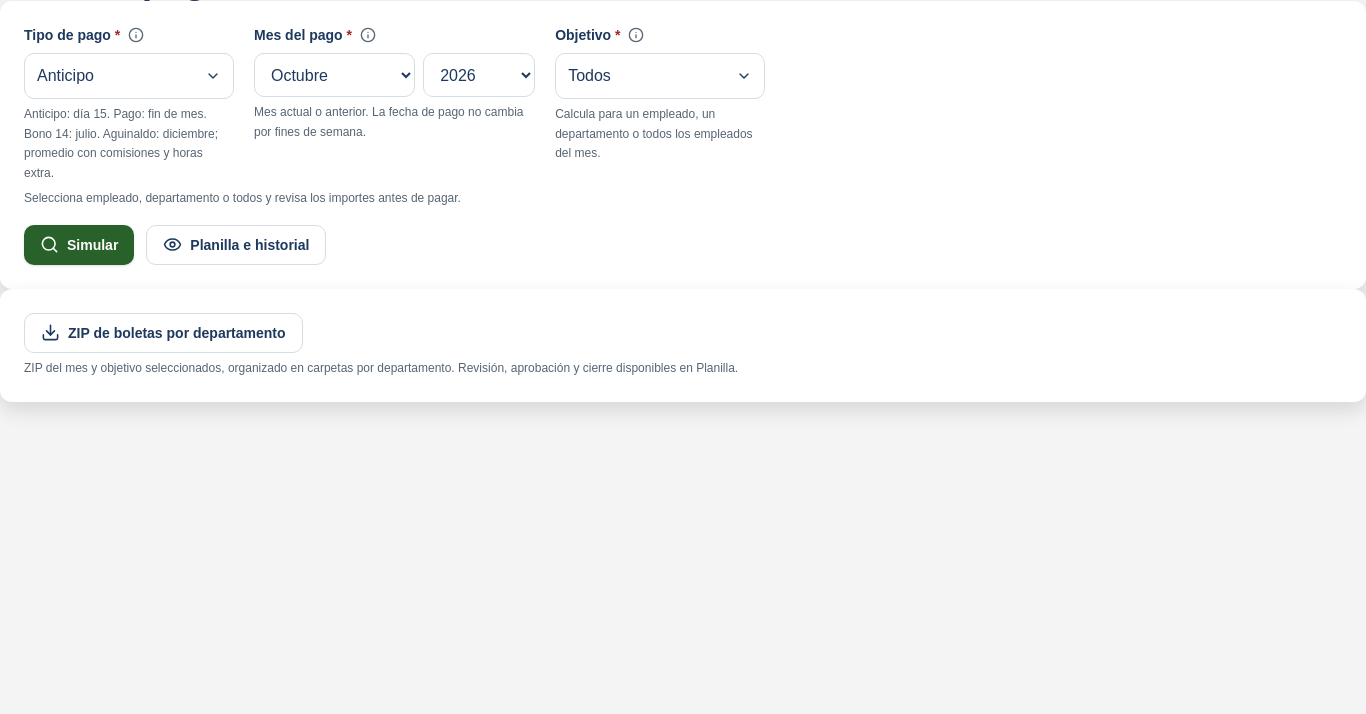
Test case: A11: simulación guiada y confirmación › cambiar mes retira simulación y confirmación
The image size is (1366, 714).
Click the button "Simular" at {"x": 79, "y": 244}, box [24,224,134,264]
(page scrolled)
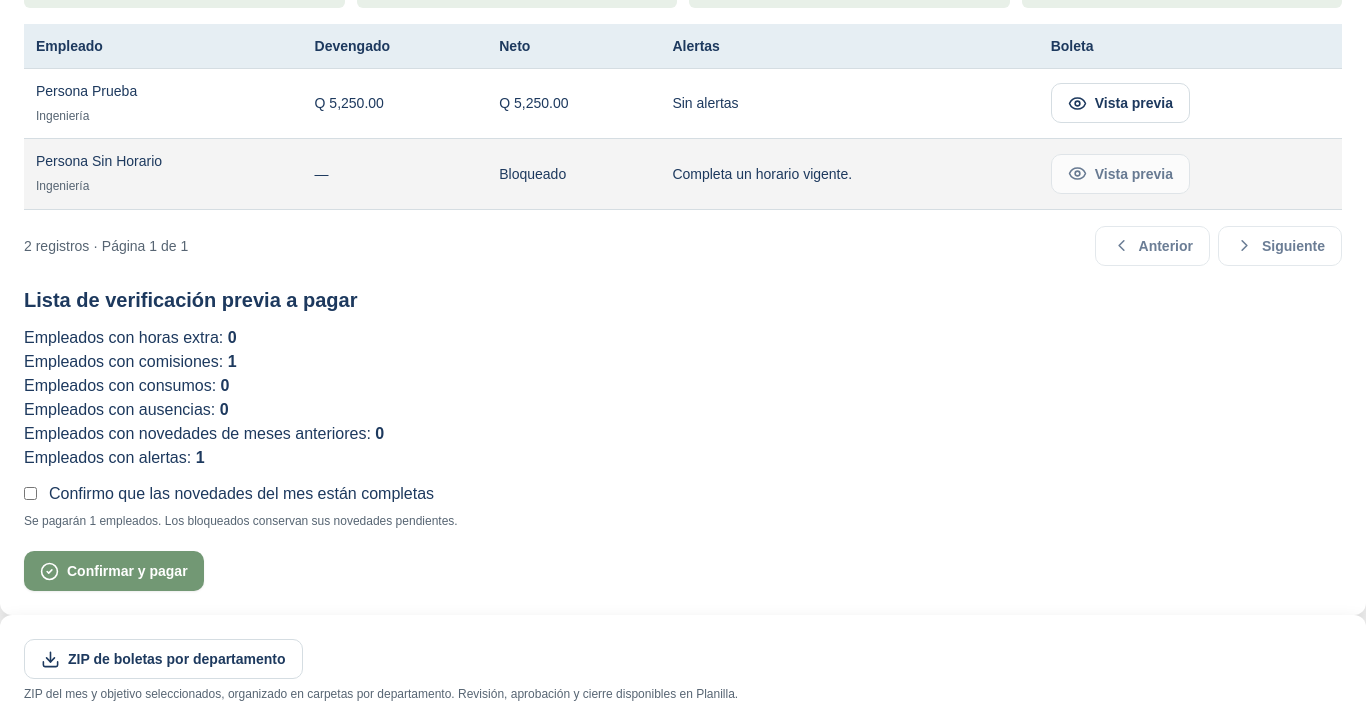
Expected: the text "Persona Prueba" is shown, [36,82,137,98]
Click the checkbox at {"x": 30, "y": 494}, box [24,487,37,500]
(page scrolled)
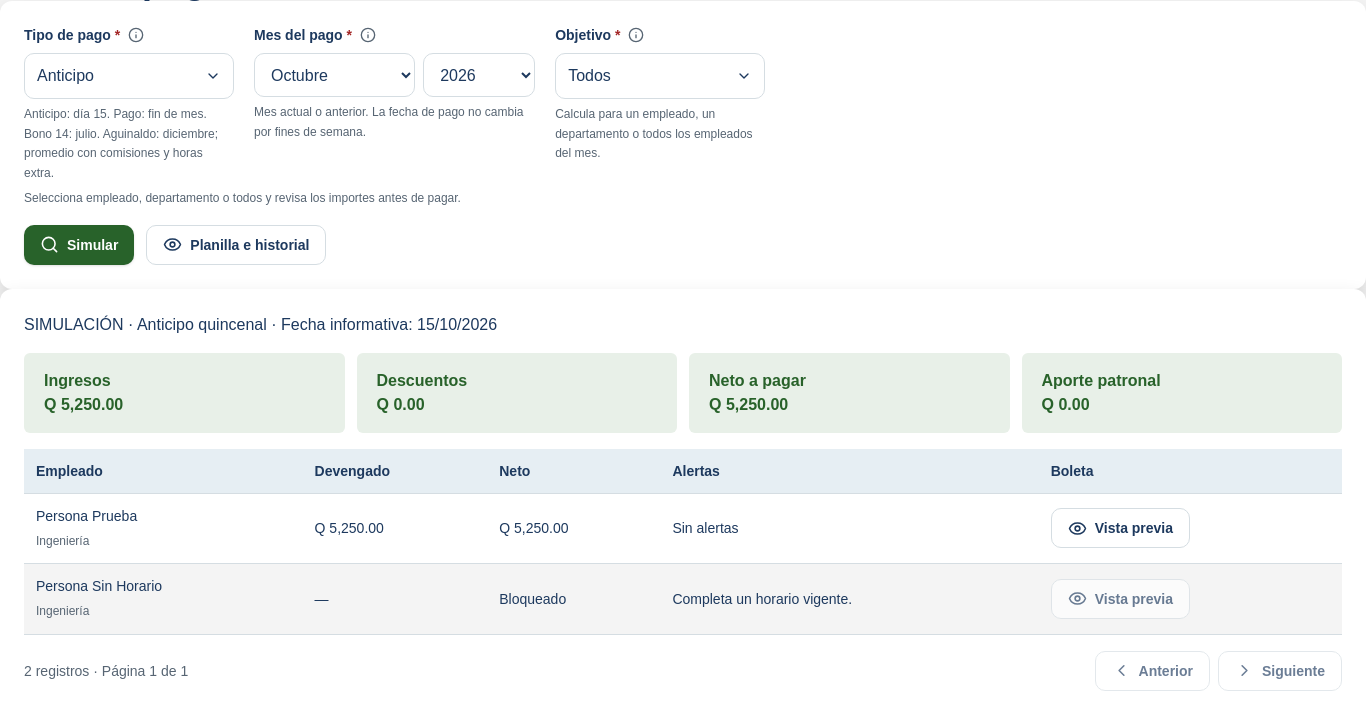
Select "Enero" in the dropdown labelled "Mes del pago" at {"x": 335, "y": 75}, box [254,53,415,97]
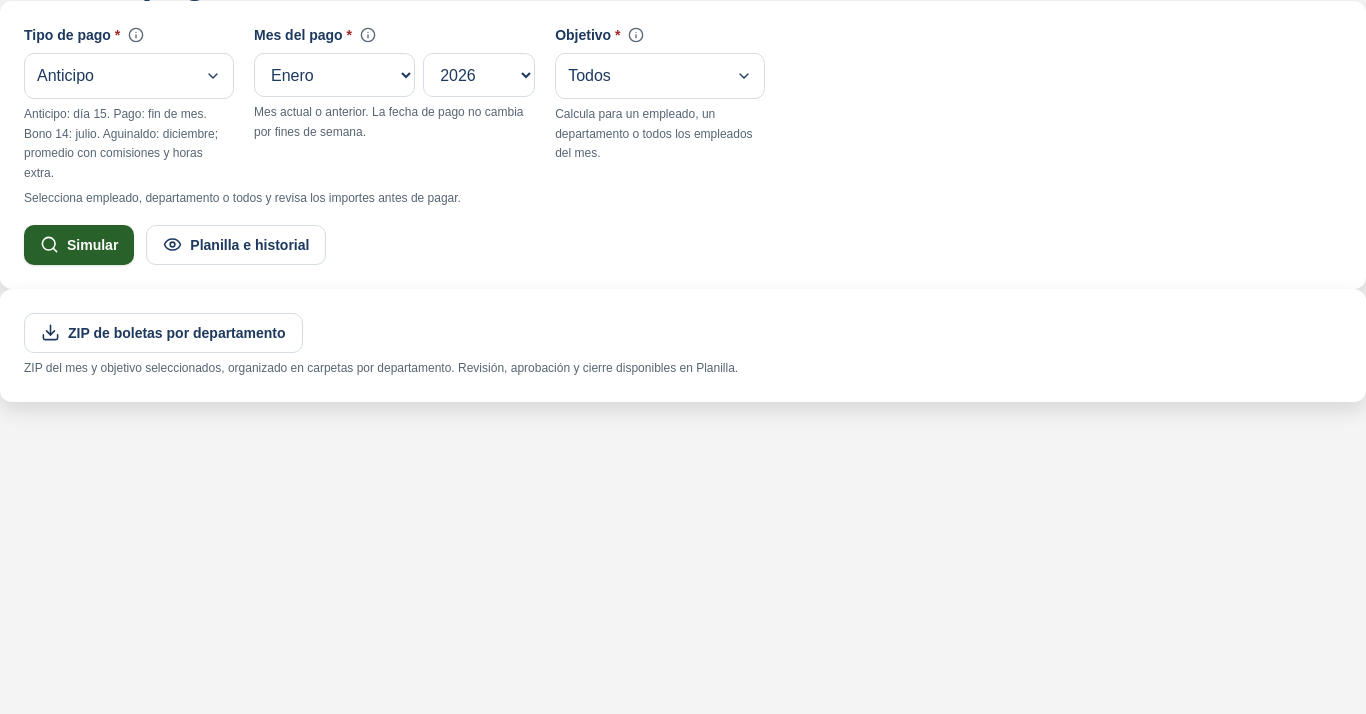
Expected: the text "Persona Prueba" is gone
